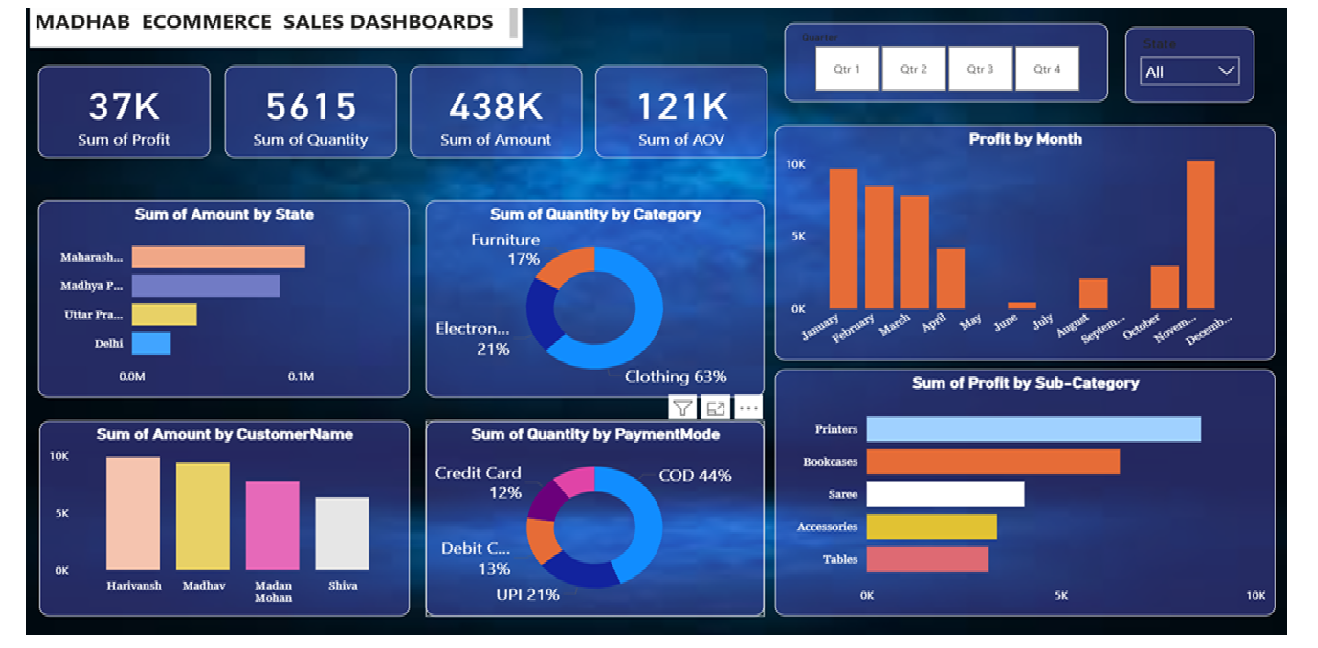

What the dashboard file says about the page in this screenshot:
{"tool":"powerbi","page":{"name":"Page 1","canvas":[1280,720],"ordinal":0},"visuals":[{"type":"textbox","box":[9.7,0,497.1,49.5],"z":0},{"type":"columnChart","title":"Profit by Month","fields":{"Y":["Details.Profit"],"Category":["Orders.Order Date.Variation.Date Hierarchy.Month"]},"box":[761.6,137.2,505,264.8],"z":1000},{"type":"barChart","fields":{"Category":["Details.Sub-Category"],"Y":["Details.Profit"]},"box":[761.6,413,505,278.6],"z":2000},{"type":"donutChart","fields":{"Category":["Details.Category"],"Y":["Details.Quantity"]},"box":[408.9,222.3,341.7,222.3],"z":3000},{"type":"donutChart","fields":{"Category":["Details.PaymentMode"],"Y":["Details.Quantity"]},"box":[408.9,470.7,341.7,220.9],"z":4000},{"type":"card","fields":{"Values":["Details.Profit"]},"box":[18.1,70,173.7,103.8],"z":5000},{"type":"card","fields":{"Values":["Details.Quantity"]},"box":[206.3,70,173.7,103.8],"z":6000},{"type":"card","fields":{"Values":["Details.Amount"]},"box":[393.3,70,173.7,103.8],"z":7000},{"type":"card","fields":{"Values":["Details.AOV"]},"box":[580.3,70,173.7,103.8],"z":8000},{"type":"barChart","fields":{"Category":["Orders.State"],"Y":["Details.Amount"]},"box":[17.8,222.3,374.6,222.3],"z":9000},{"type":"columnChart","fields":{"Category":["Orders.CustomerName"],"Y":["Details.Amount"]},"box":[19.2,470.7,373.2,220.9],"z":10000},{"type":"slicer","fields":{"Values":["Orders.State"]},"box":[1114.2,26.1,130.4,85.1],"z":11000},{"type":"slicer","fields":{"Values":["Orders.Order Date.Variation.Date Hierarchy.Quarter"]},"box":[771.2,22,326.6,89.2],"z":12000}]}

Visuals, with their boxes on the page's 1280x720 design canvas (x1, y1, x2, y2). These are canvas units, not pixel positions in the 1318x648 screenshot, which may show the page scaled, cropped or inside an application window:
textbox: <bbox>10, 0, 507, 50</bbox>
"Profit by Month" columnChart: <bbox>762, 137, 1267, 402</bbox>
barChart - Details.Sub-Category x Details.Profit: <bbox>762, 413, 1267, 692</bbox>
donutChart - Details.Category x Details.Quantity: <bbox>409, 222, 751, 445</bbox>
donutChart - Details.PaymentMode x Details.Quantity: <bbox>409, 471, 751, 692</bbox>
card - Details.Profit: <bbox>18, 70, 192, 174</bbox>
card - Details.Quantity: <bbox>206, 70, 380, 174</bbox>
card - Details.Amount: <bbox>393, 70, 567, 174</bbox>
card - Details.AOV: <bbox>580, 70, 754, 174</bbox>
barChart - Orders.State x Details.Amount: <bbox>18, 222, 392, 445</bbox>
columnChart - Orders.CustomerName x Details.Amount: <bbox>19, 471, 392, 692</bbox>
slicer - Orders.State: <bbox>1114, 26, 1245, 111</bbox>
slicer - Orders.Order Date.Variation.Date Hierarchy.Quarter: <bbox>771, 22, 1098, 111</bbox>
